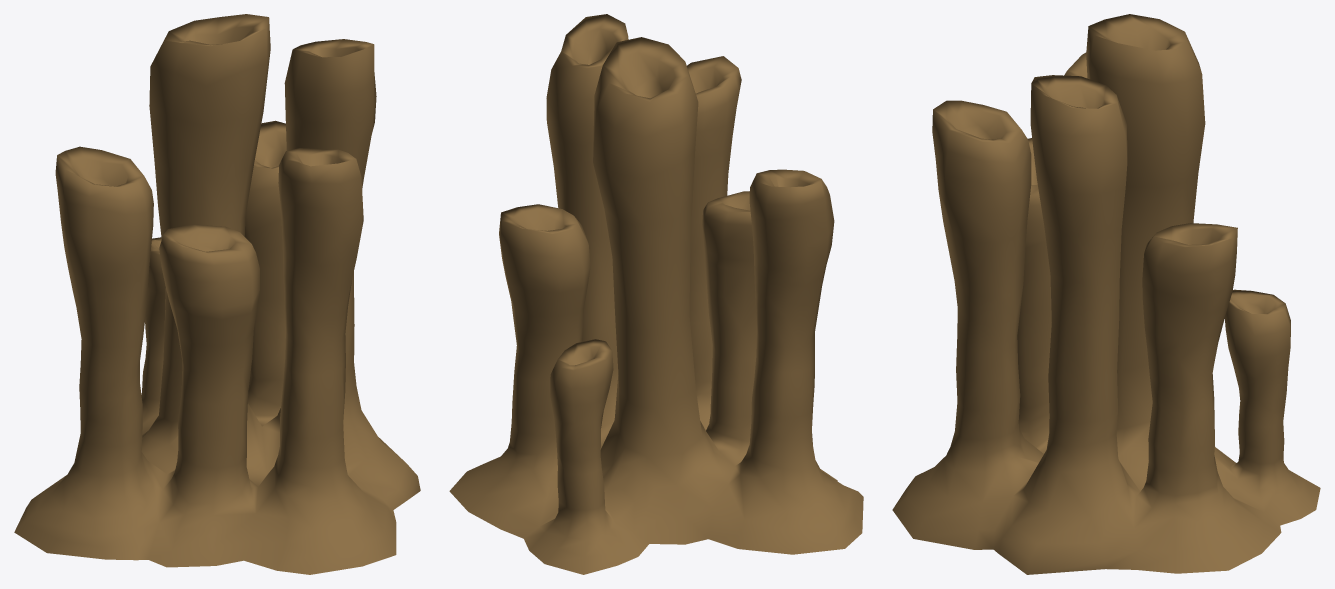
File: coral04.fbx
3 views of the same model, side by side, from view 1: azimuth 30°, elevation 25°; view 2: azimuth 150°, elevation 25°; view 3: azimuth 270°, elevation 25° (orthographic). The views are drawn at different scales.
Parts seen in each view (by area): view 1: coral11; view 2: coral11; view 3: coral11.
Boxes of the visible parts, x1,y1,x2,y2 form: coral11: [14, 14, 420, 574]; coral11: [449, 14, 863, 574]; coral11: [892, 14, 1320, 574].
Bounding box in the file's own units: 153 × 185 × 149.
